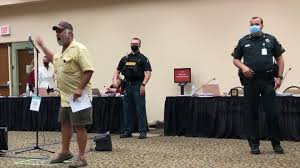mask: (250, 25, 261, 34), (131, 45, 139, 52)
